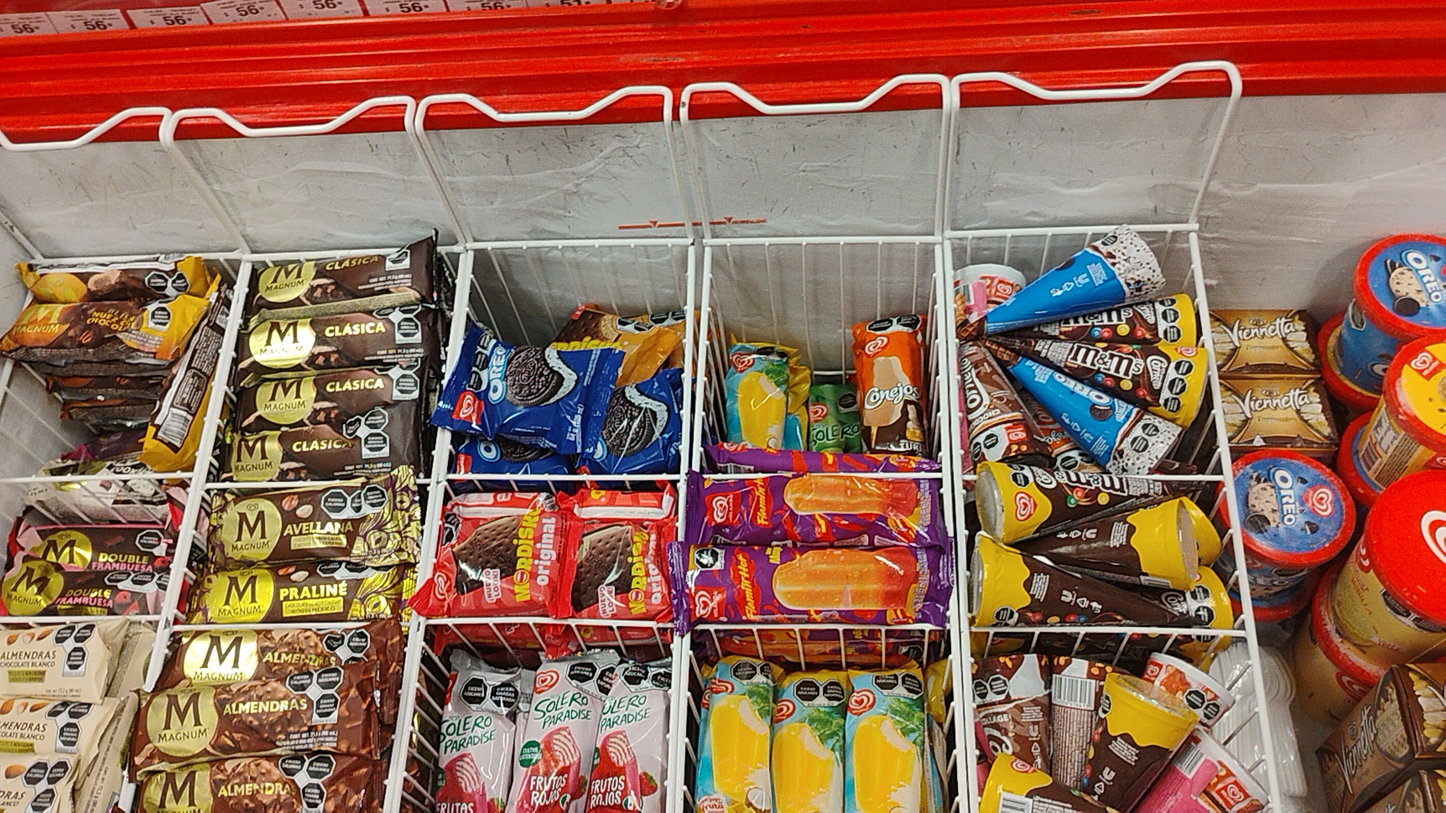rejilla: (1190, 233, 1280, 813), (148, 263, 246, 688), (154, 263, 251, 684), (946, 241, 977, 812), (385, 613, 417, 811), (392, 618, 424, 812), (936, 245, 952, 535), (680, 247, 694, 540), (419, 430, 444, 588), (693, 249, 710, 471), (427, 432, 449, 578), (952, 592, 966, 812), (972, 627, 1246, 635), (447, 254, 465, 374), (677, 636, 688, 812), (456, 251, 472, 360), (425, 618, 673, 625), (669, 638, 678, 812), (469, 239, 690, 246), (2, 473, 195, 481), (171, 623, 364, 630), (245, 251, 395, 259), (947, 228, 1115, 235), (705, 238, 940, 243), (697, 624, 942, 628), (37, 255, 151, 263), (447, 475, 681, 478), (203, 482, 334, 487), (1, 616, 161, 620), (823, 474, 944, 477), (1136, 476, 1225, 479), (1131, 226, 1196, 230), (705, 474, 773, 477), (193, 255, 240, 257), (438, 248, 464, 251), (962, 476, 976, 479), (417, 481, 431, 482), (948, 625, 952, 628)
